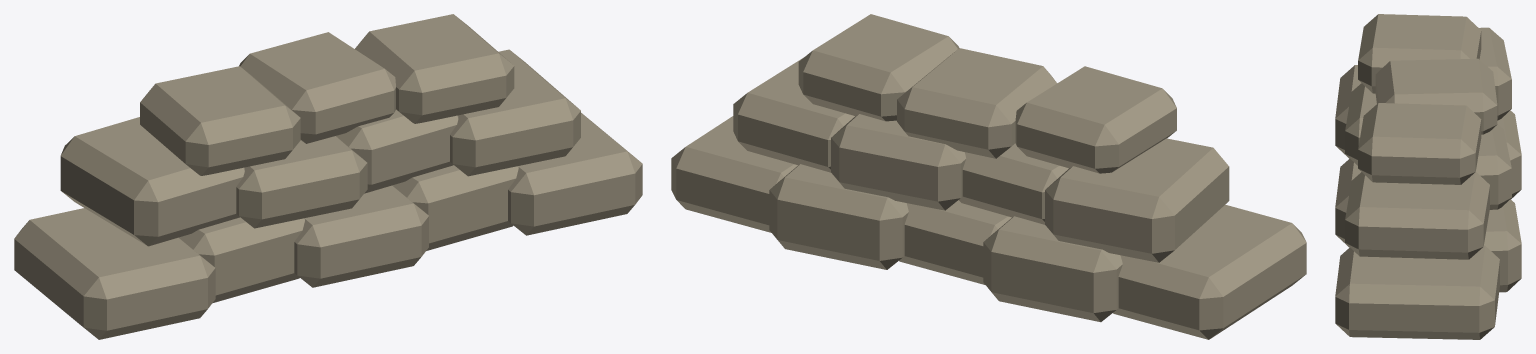
The model's file is barricade.glb.
The picture shows the model from 3 angles, left to right: view 1: azimuth 30°, elevation 25°; view 2: azimuth 150°, elevation 25°; view 3: azimuth 270°, elevation 25°; orthographic projection. The views are drawn at different scales.
Parts seen in each view (by area): view 1: barricade; view 2: barricade; view 3: barricade.
Boxes of the visible parts, left/top/right/bottom form: barricade: left=14, top=14, right=642, bottom=339; barricade: left=671, top=14, right=1306, bottom=339; barricade: left=1335, top=14, right=1521, bottom=339.
Size of the model in its own units: 2.63 by 0.8 by 0.8866.
